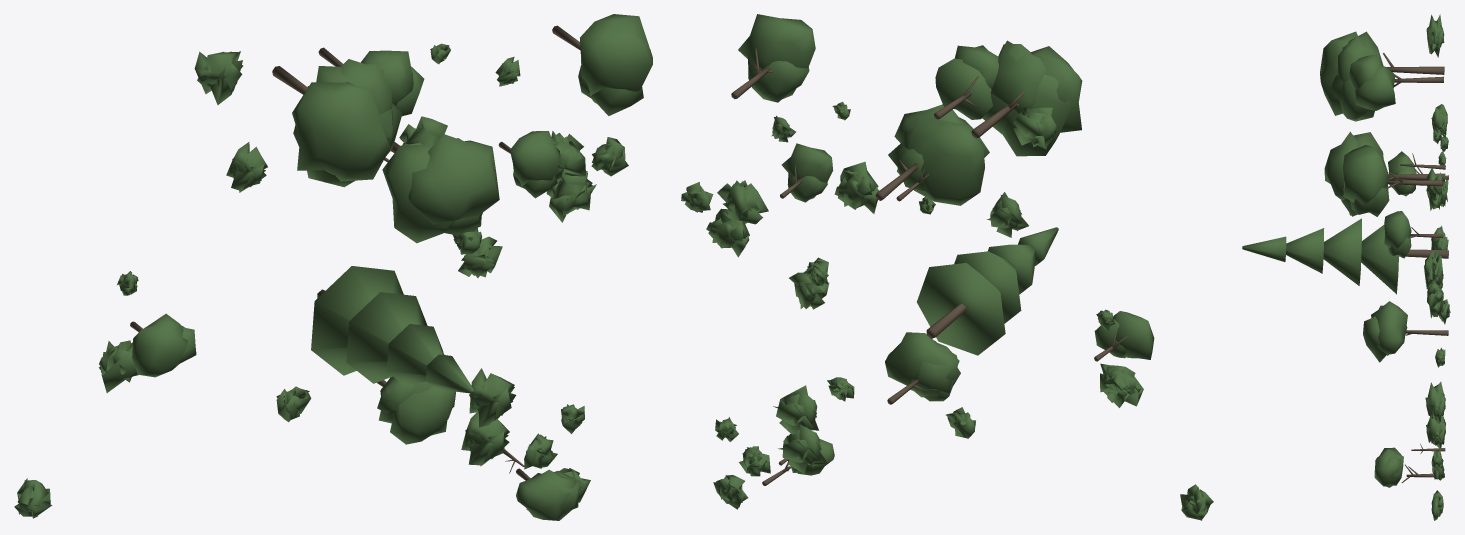
File: batch_VEG_n002_p001.glb
The picture shows the model from 3 angles, left to right: view 1: azimuth 30°, elevation 25°; view 2: azimuth 150°, elevation 25°; view 3: azimuth 270°, elevation 25°; orthographic projection. The views are drawn at different scales.
Parts seen in each view (by area): view 1: SAR_Bush_0214.001; view 2: SAR_Bush_0214.001; view 3: SAR_Bush_0214.001.
Part boxes in pixels (<box>): SAR_Bush_0214.001: <box>14,14,652,520</box>; SAR_Bush_0214.001: <box>681,14,1213,520</box>; SAR_Bush_0214.001: <box>1242,14,1450,520</box>.
Size of the model in its own units: 52.77 by 46.11 by 22.33.
